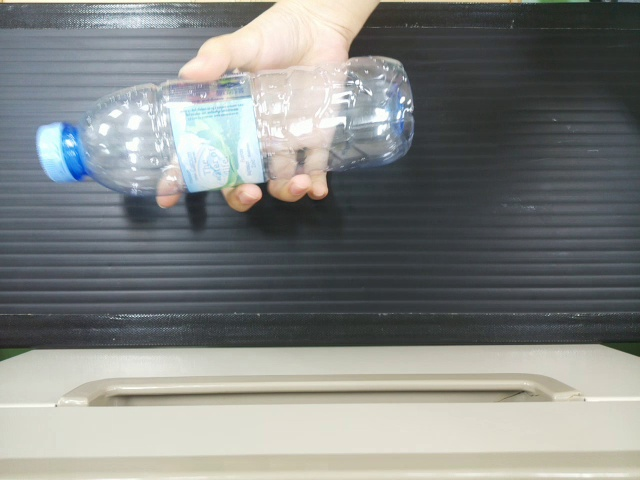bottle: (30, 61, 417, 193)
